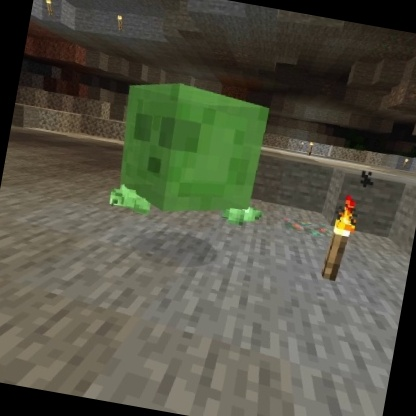slime: (105, 71, 276, 230)
